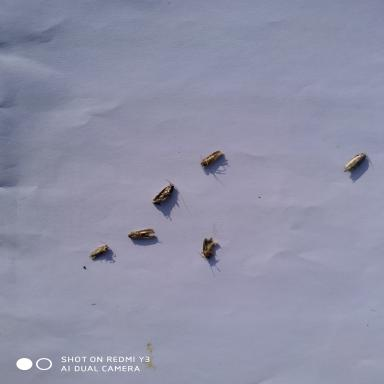pbw: (187, 236, 220, 272), (148, 178, 179, 209), (122, 225, 162, 249), (337, 150, 373, 176), (82, 238, 114, 262), (194, 147, 227, 170)
